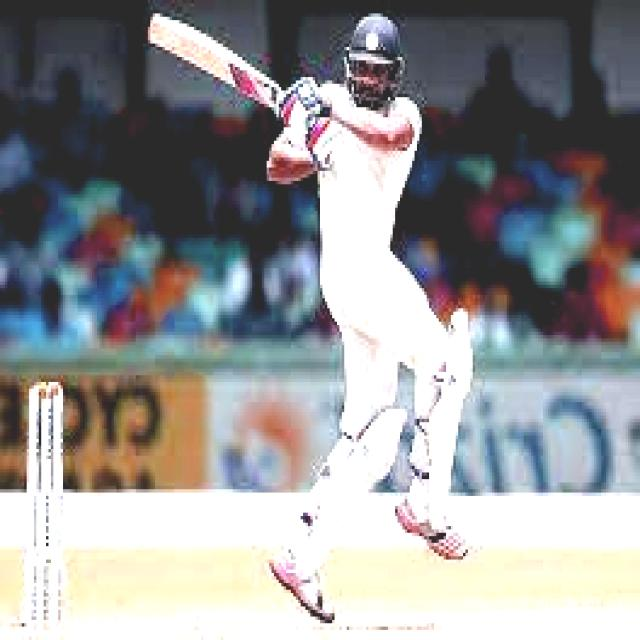toe: (146, 5, 165, 53)
